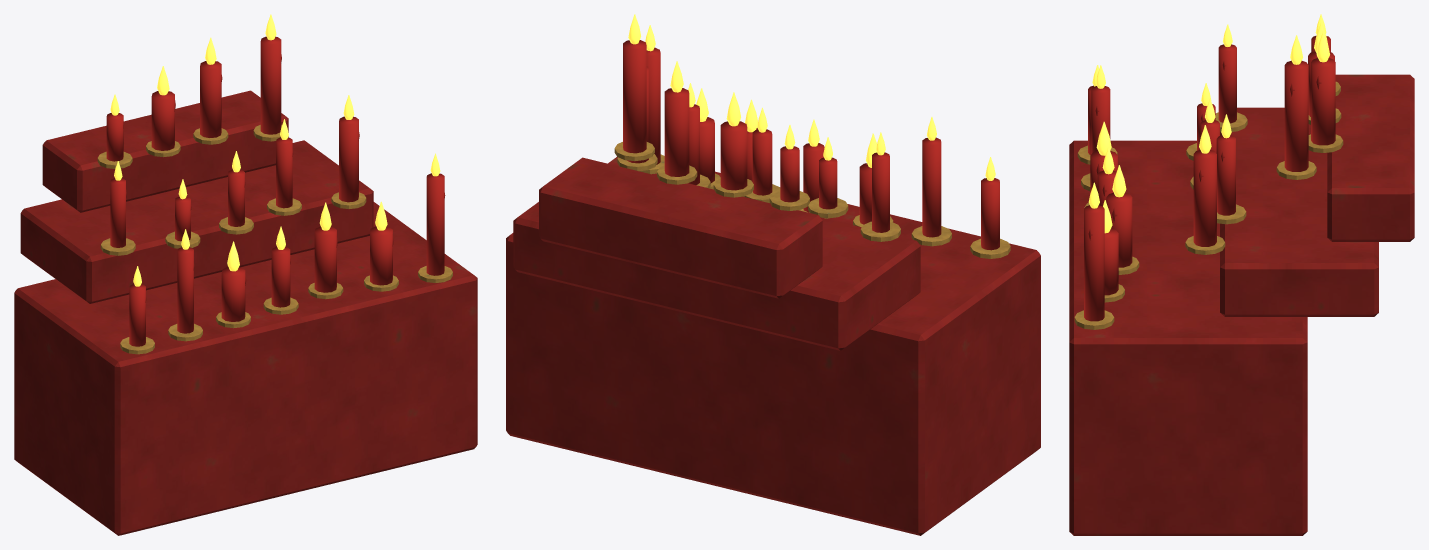
File: altar_candles.glb
3 renders of one model, left to right at view 1: azimuth 30°, elevation 25°; view 2: azimuth 150°, elevation 25°; view 3: azimuth 270°, elevation 25°, orthographic. The views are drawn at different scales.
Visible parts, largest first — view 1: CandleAltar, Candles, CandleDishes, CandleFlames; view 2: CandleAltar, Candles, CandleDishes, CandleFlames; view 3: CandleAltar, Candles, CandleDishes, CandleFlames.
Boxes of the visible parts, x1,y1,x2,y2 form: CandleAltar: (14, 90, 477, 535); Candles: (106, 36, 445, 346); CandleDishes: (97, 125, 452, 354); CandleFlames: (110, 14, 440, 286); CandleAltar: (506, 157, 1040, 535); Candles: (623, 40, 999, 250); CandleDishes: (614, 142, 1010, 258); CandleFlames: (628, 14, 995, 180); CandleAltar: (1069, 74, 1414, 535); Candles: (1084, 36, 1335, 321); CandleDishes: (1074, 81, 1343, 329); CandleFlames: (1088, 14, 1329, 233).
Size of what is drawn, in the model's own units: 1.2 by 1.23 by 0.87.
4 materials, 2 textured.
